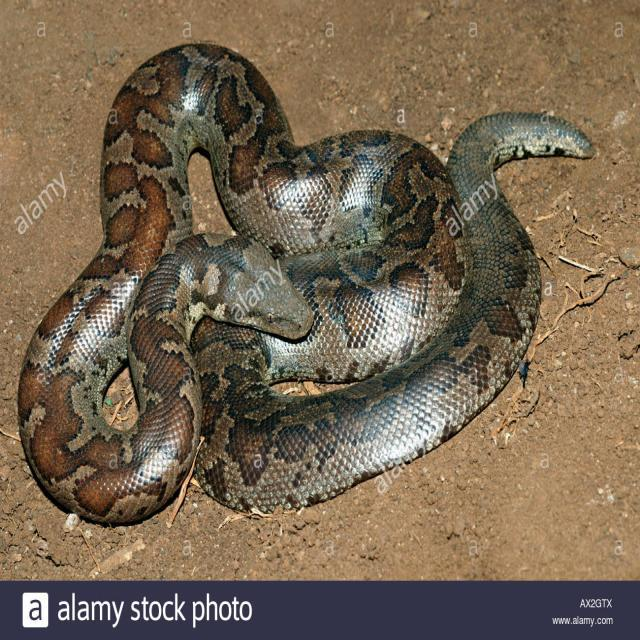Snake: (16, 40, 595, 524)
